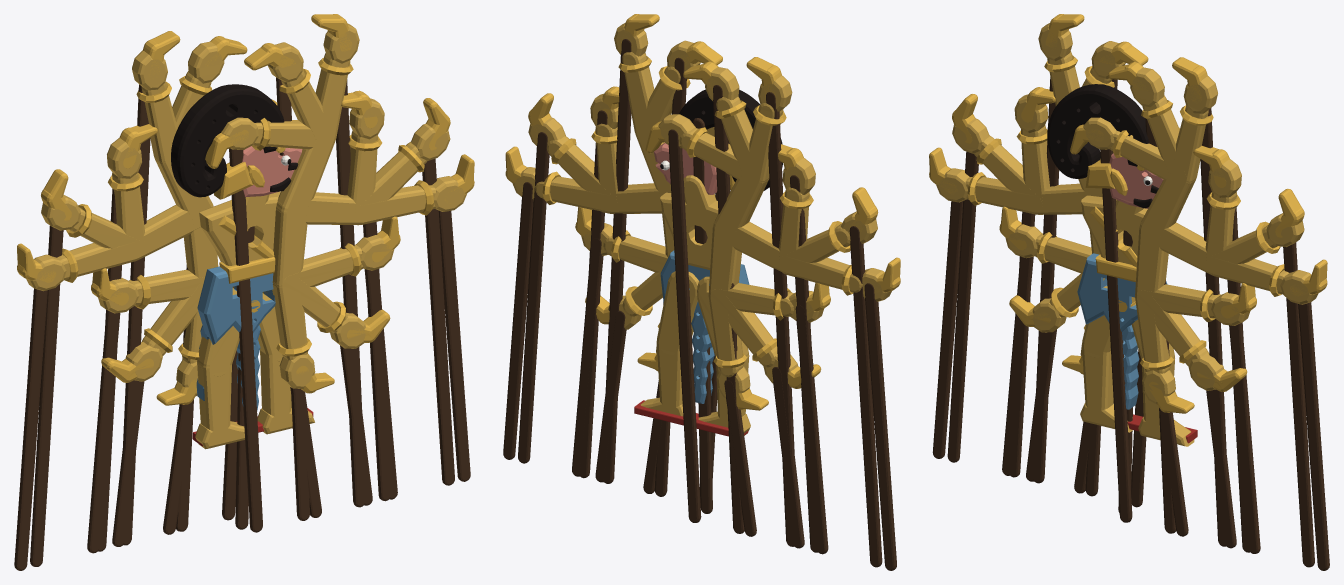
File: dewaruci.glb
The picture shows the model from 3 angles, left to right: view 1: azimuth 30°, elevation 25°; view 2: azimuth 150°, elevation 25°; view 3: azimuth 330°, elevation 25°; orthographic projection. The views are drawn at different scales.
Visible parts, largest first — view 1: body, back_10, head, front_10, front_20, front_22, front_11, back_20, back_11, front_00, back_02, front_02 (+8 smaller); view 2: body, back_20, back_10, back_22, front_10, front_20, front_11, back_11, back_00, back_02, back_21, front_02 (+8 smaller); view 3: body, front_10, front_20, back_10, head, back_11, front_22, front_11, front_00, front_12, back_20, back_02 (+8 smaller).
Boxes of the visible parts, left/top/right/bottom form: body: left=192, top=191, right=314, bottom=529; back_10: left=14, top=205, right=213, bottom=570; head: left=171, top=84, right=302, bottom=199; front_10: left=276, top=154, right=474, bottom=481; front_20: left=276, top=14, right=364, bottom=507; front_22: left=205, top=117, right=334, bottom=532; front_11: left=358, top=98, right=454, bottom=485; back_20: left=123, top=31, right=213, bottom=545; back_11: left=30, top=169, right=141, bottom=566; front_00: left=272, top=201, right=334, bottom=517; back_02: left=87, top=268, right=204, bottom=553; front_02: left=277, top=216, right=400, bottom=499; body: left=634, top=118, right=750, bottom=513; back_20: left=713, top=57, right=794, bottom=546; back_10: left=712, top=221, right=900, bottom=570; back_22: left=645, top=114, right=767, bottom=522; front_10: left=503, top=146, right=662, bottom=459; front_20: left=603, top=14, right=671, bottom=483; front_11: left=518, top=93, right=613, bottom=463; back_11: left=779, top=187, right=882, bottom=567; back_00: left=708, top=225, right=768, bottom=536; back_02: left=714, top=282, right=830, bottom=554; back_21: left=683, top=61, right=768, bottom=533; front_02: left=572, top=207, right=667, bottom=476; body: left=1077, top=195, right=1197, bottom=512; front_10: left=1139, top=222, right=1329, bottom=570; front_20: left=1140, top=57, right=1226, bottom=546; back_10: left=929, top=147, right=1085, bottom=458; head: left=1047, top=84, right=1163, bottom=208; back_11: left=947, top=94, right=1041, bottom=462; front_22: left=1070, top=117, right=1190, bottom=522; front_11: left=1211, top=188, right=1314, bottom=567; front_00: left=1135, top=226, right=1194, bottom=536; front_12: left=1193, top=146, right=1250, bottom=552; back_20: left=1033, top=14, right=1102, bottom=483; back_02: left=999, top=206, right=1091, bottom=475.
Size of the model in its own units: 0.8138 by 0.8989 by 0.122.
